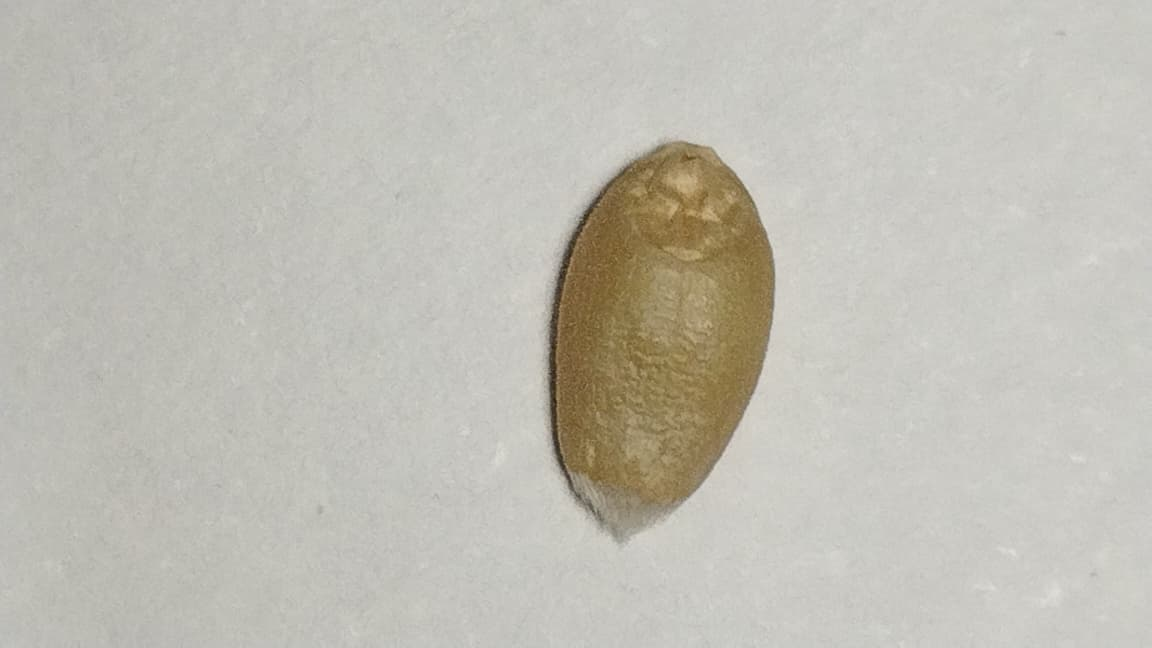healthy: (554, 142, 771, 542)
